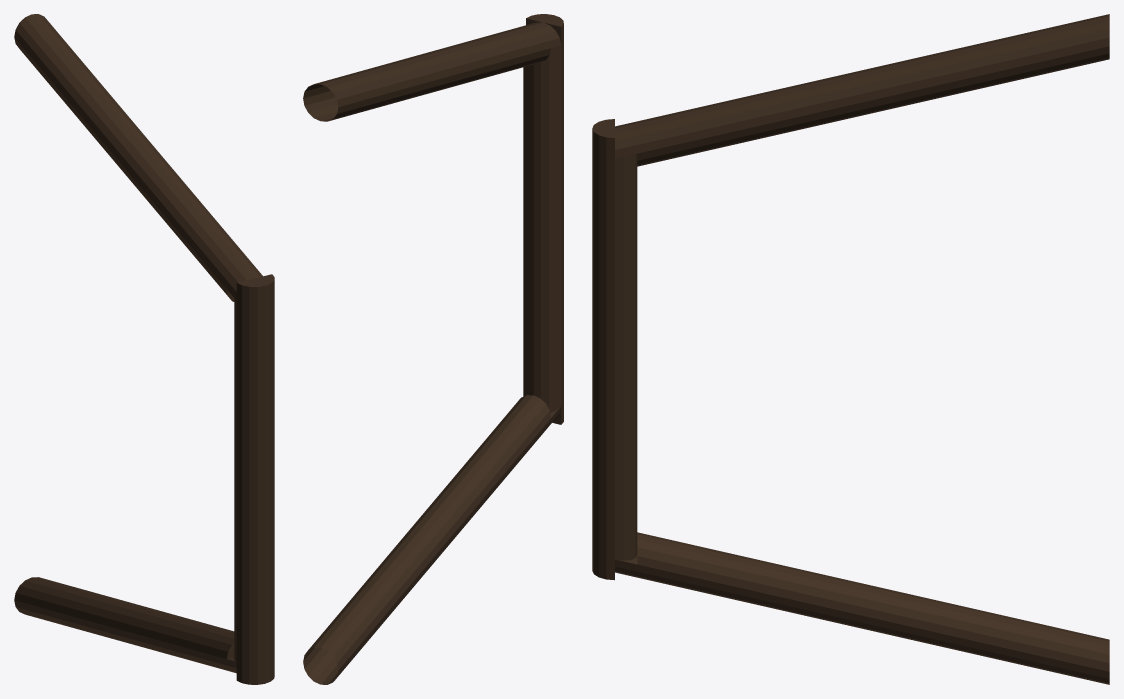
Rendered from three_sup.obj.
3 views of the same model, side by side, from view 1: azimuth 30°, elevation 25°; view 2: azimuth 150°, elevation 25°; view 3: azimuth 270°, elevation 25° (orthographic). The views are drawn at different scales.
Parts seen in each view (by area): view 1: product-11b35f92-8af3-454c-83e6-7467bfee86b5-body; view 2: product-11b35f92-8af3-454c-83e6-7467bfee86b5-body; view 3: product-11b35f92-8af3-454c-83e6-7467bfee86b5-body.
Boxes of the visible parts, x1,y1,x2,y2 form: product-11b35f92-8af3-454c-83e6-7467bfee86b5-body: (14,14,274,684); product-11b35f92-8af3-454c-83e6-7467bfee86b5-body: (303,14,563,684); product-11b35f92-8af3-454c-83e6-7467bfee86b5-body: (592,14,1109,684).
Size of the model in its own units: 0.2005 by 3.24 by 2.28.
